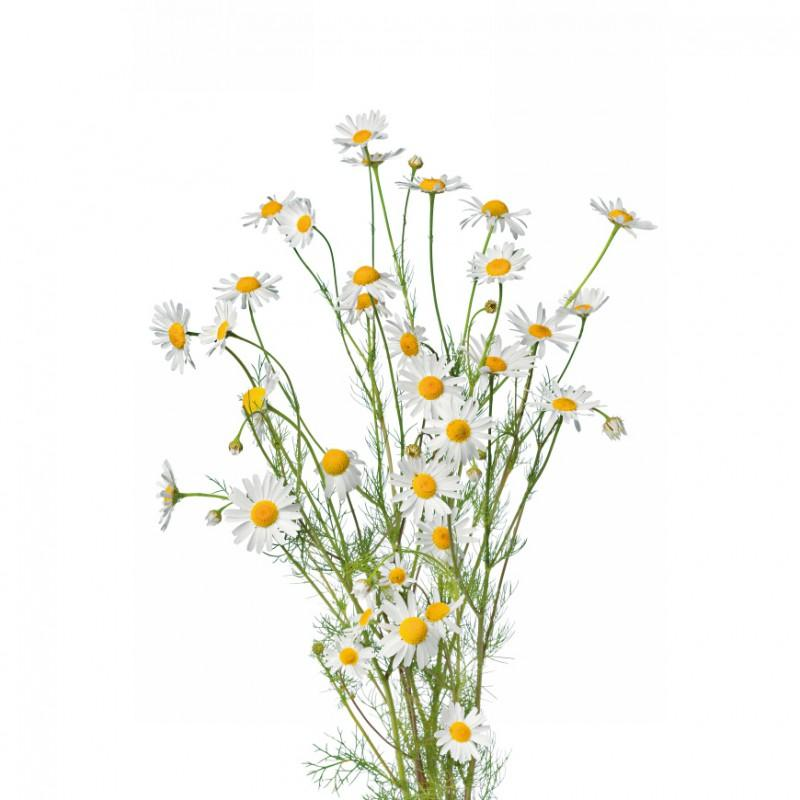chamomile: (329, 248, 421, 352), (485, 306, 635, 363), (393, 706, 485, 776), (371, 600, 445, 672), (136, 290, 193, 383), (237, 472, 291, 564), (384, 362, 471, 415), (467, 320, 529, 394), (424, 412, 503, 463), (203, 264, 289, 310), (236, 172, 299, 231), (396, 458, 457, 518), (533, 380, 607, 429), (320, 424, 363, 497), (331, 104, 393, 152), (471, 246, 537, 291), (558, 278, 619, 325), (587, 196, 657, 234), (332, 264, 401, 301), (411, 518, 469, 562), (197, 302, 235, 367), (277, 206, 325, 256), (392, 172, 473, 200), (137, 474, 179, 527), (379, 324, 439, 361), (473, 196, 531, 233), (368, 554, 415, 599), (323, 644, 357, 693), (598, 406, 625, 452)
